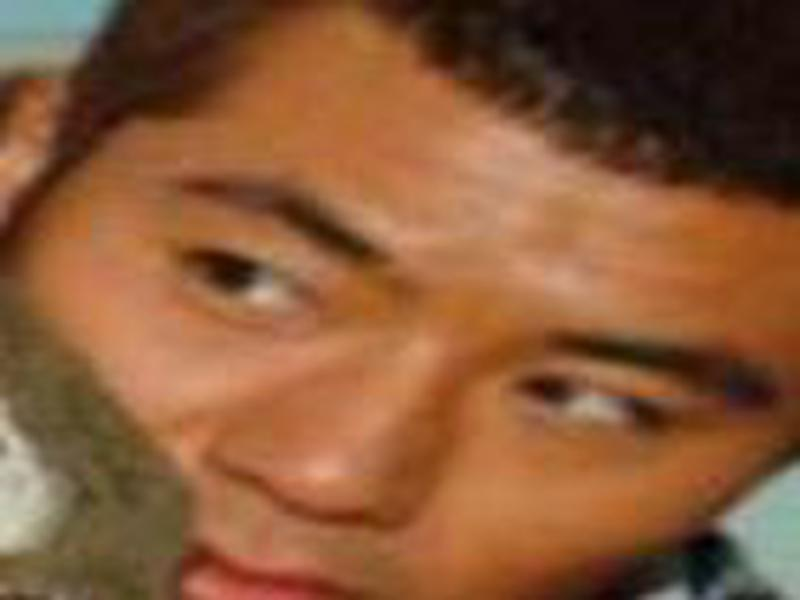without_mask: (17, 21, 795, 600)
